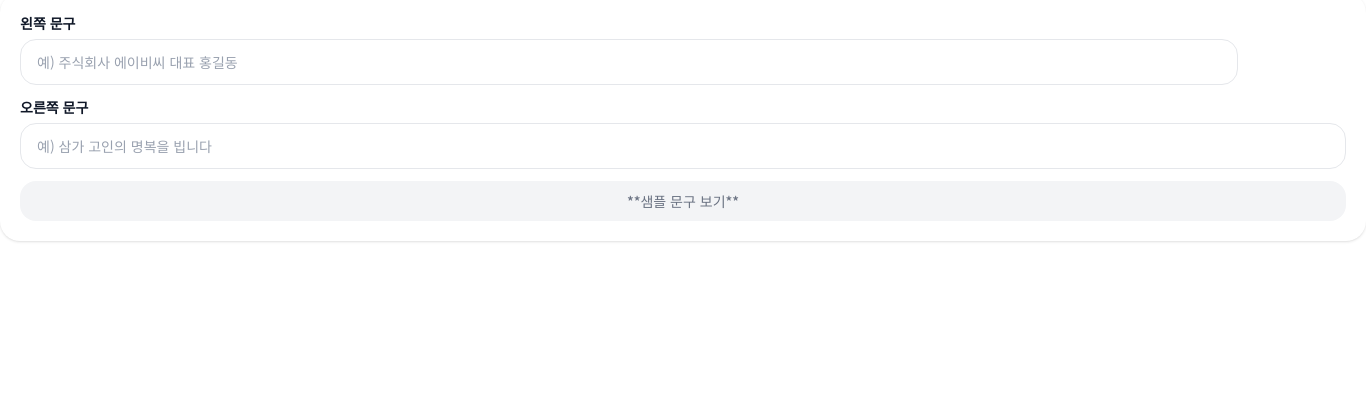
Test: RibbonText › should switch to condolence presets when tab clicked
Click the button "**샘플 문구 보기**".
click(683, 201)  # box x1=20 y1=181 x2=1346 y2=221
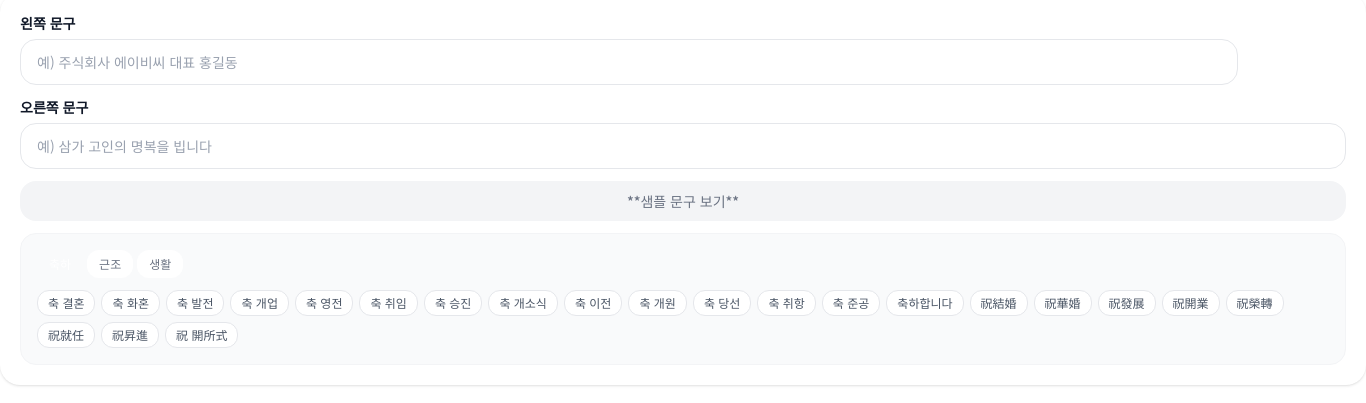
Click the button "근조".
click(110, 264)  # box x1=87 y1=250 x2=133 y2=278
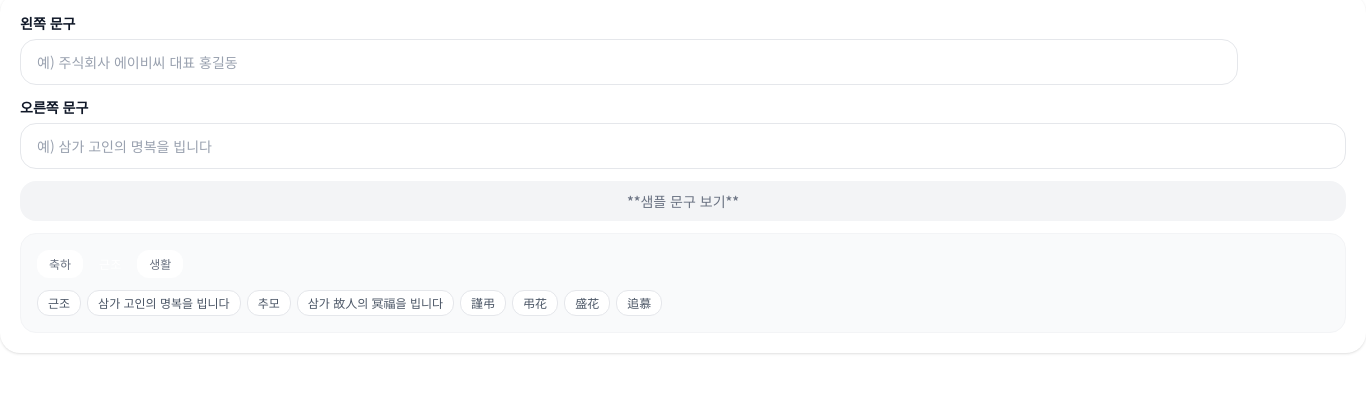
Now the button "삼가 고인의 명복을 빕니다" is shown, box x1=87 y1=290 x2=241 y2=316
